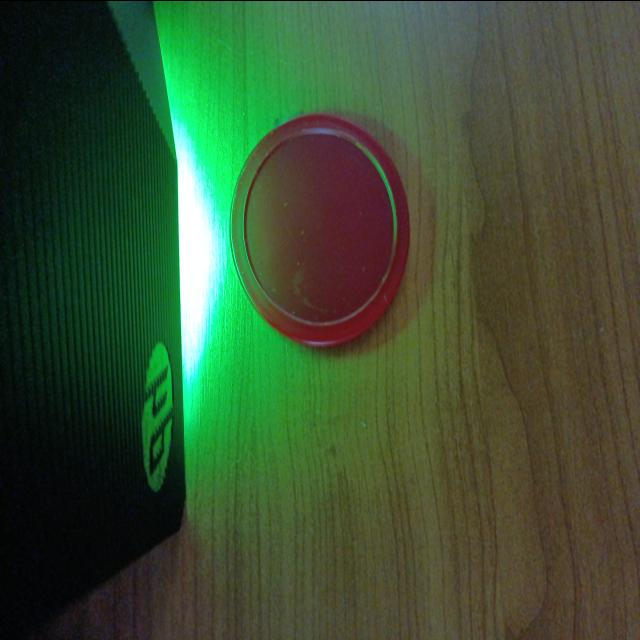chip: (228, 107, 408, 349)
